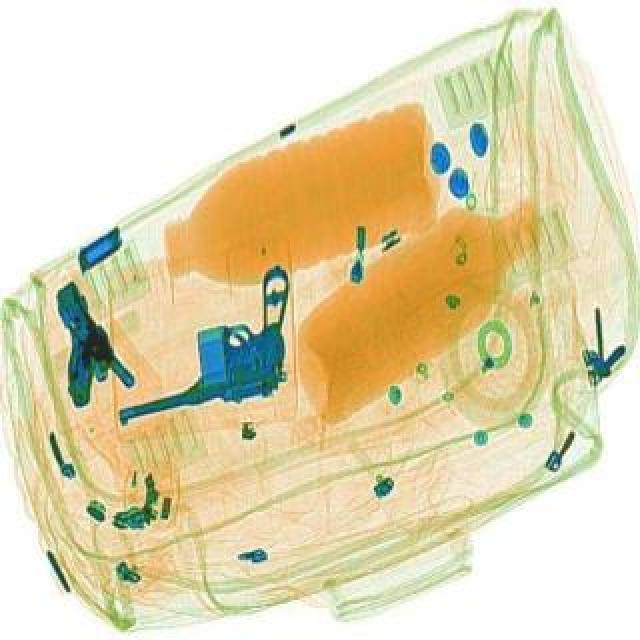gun: (110, 258, 310, 422), (18, 270, 138, 410)
